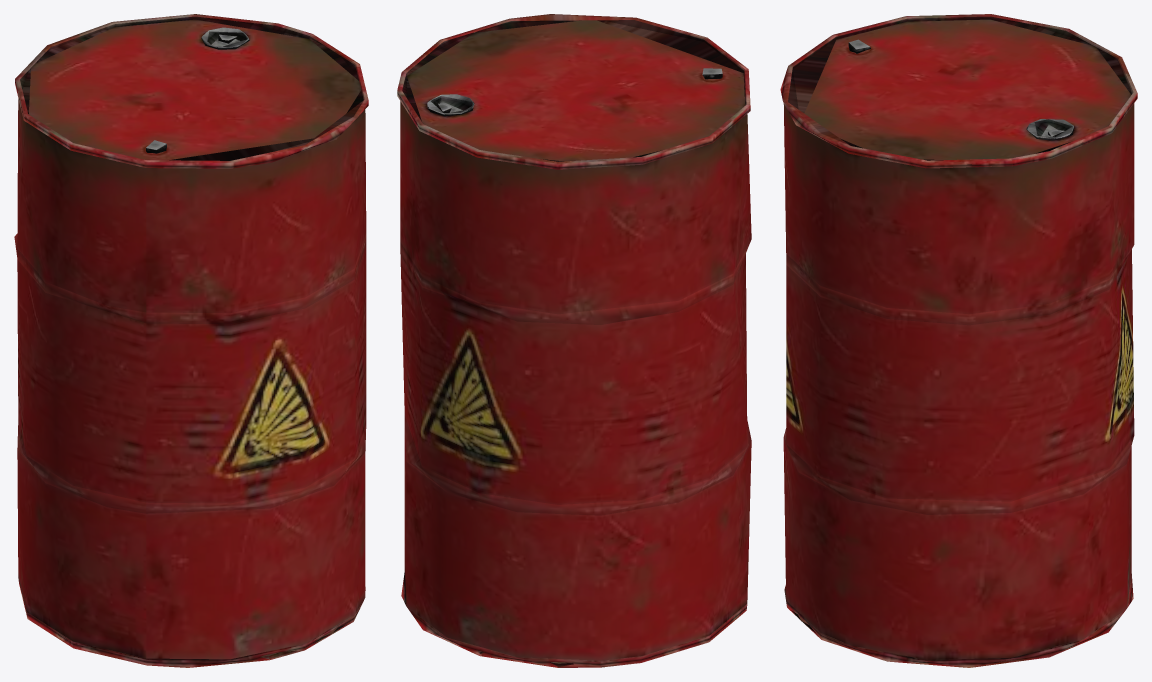
File: p_barrel.glb
3 renders of one model, left to right at view 1: azimuth 30°, elevation 25°; view 2: azimuth 150°, elevation 25°; view 3: azimuth 270°, elevation 25°, orthographic.
Parts seen in each view (by area): view 1: Barrel_01; view 2: Barrel_01; view 3: Barrel_01.
Part boxes in pixels (x1,y1,x2,y2): Barrel_01: (14,14,368,667); Barrel_01: (397,14,751,667); Barrel_01: (780,14,1137,667).
Size of the model in its own units: 0.5522 by 0.8789 by 0.5603.
Materials: 1 (1 with a texture image).
